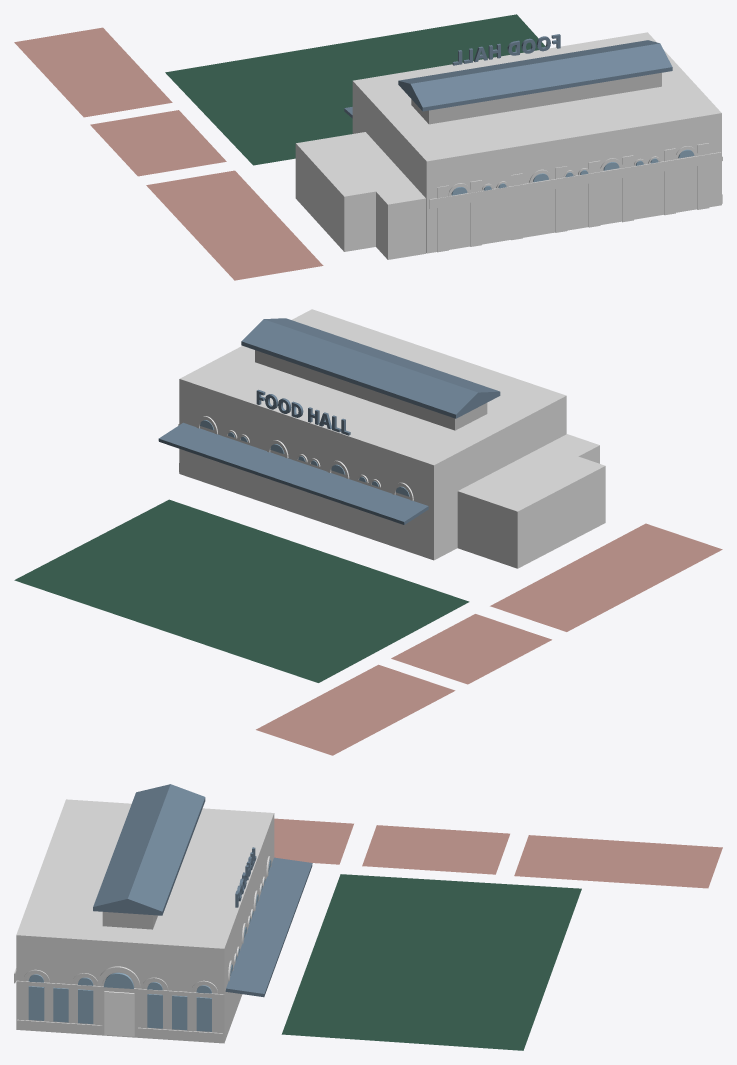
File: bottling_dept.glb
3 views of the same model, one above another, from view 1: azimuth 30°, elevation 25°; view 2: azimuth 150°, elevation 25°; view 3: azimuth 270°, elevation 25° (orthographic). The views are drawn at different scales.
Parts seen in each view (by area): view 1: Building, Lawn, Rectangle 2 (×2), Rectangle, Roof, Rectangle 3, Column (×8), Roof building, H Column, Food Hall; view 2: Lawn, Building, Rectangle 2 (×2), Rectangle, Roof, Rectangle 3, Awning, Roof building, Food Hall; view 3: Lawn, Building, Rectangle 3 (×2), Roof, Rectangle 2 (×2), Awning, window (×6), Rectangle, Door, Rectangle 4, Roof building.
Boxes of the visible parts, bbox=[...] form: Building: bbox=[352, 32, 721, 253]; Lawn: bbox=[165, 14, 545, 165]; Rectangle 2 (×2): bbox=[90, 110, 425, 259]; Rectangle: bbox=[146, 170, 323, 280]; Roof: bbox=[398, 40, 672, 111]; Rectangle 3: bbox=[14, 27, 172, 117]; Column (×8): bbox=[437, 143, 709, 252]; Roof building: bbox=[411, 72, 661, 124]; H Column: bbox=[429, 152, 721, 209]; Food Hall: bbox=[452, 34, 560, 65]; Lawn: bbox=[14, 499, 469, 682]; Building: bbox=[179, 309, 566, 560]; Rectangle 2 (×2): bbox=[391, 434, 605, 684]; Rectangle: bbox=[490, 523, 722, 631]; Roof: bbox=[241, 318, 500, 418]; Rectangle 3: bbox=[256, 664, 455, 755]; Awning: bbox=[158, 422, 428, 524]; Roof building: bbox=[255, 350, 487, 430]; Food Hall: bbox=[256, 389, 350, 435]; Lawn: bbox=[281, 874, 581, 1050]; Building: bbox=[16, 799, 274, 1043]; Rectangle 3 (×2): bbox=[17, 835, 722, 1034]; Roof: bbox=[93, 784, 205, 915]; Rectangle 2 (×2): bbox=[16, 825, 509, 998]; Awning: bbox=[225, 857, 312, 997]; window (×6): bbox=[28, 986, 211, 1031]; Rectangle: bbox=[274, 818, 353, 864]; Door: bbox=[104, 991, 134, 1036]; Rectangle 4: bbox=[138, 1027, 223, 1042]; Roof building: bbox=[102, 912, 157, 929].
Size of the model in its own units: 54.96 by 13.45 by 67.78.
